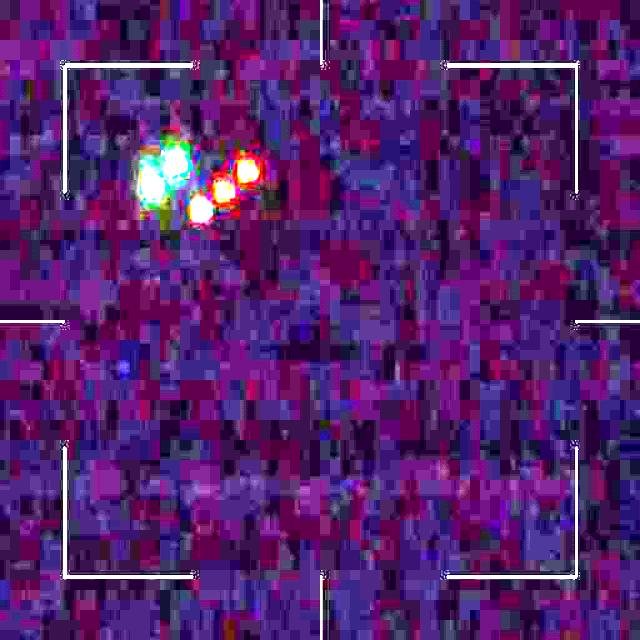bird: (140, 148, 258, 232)
